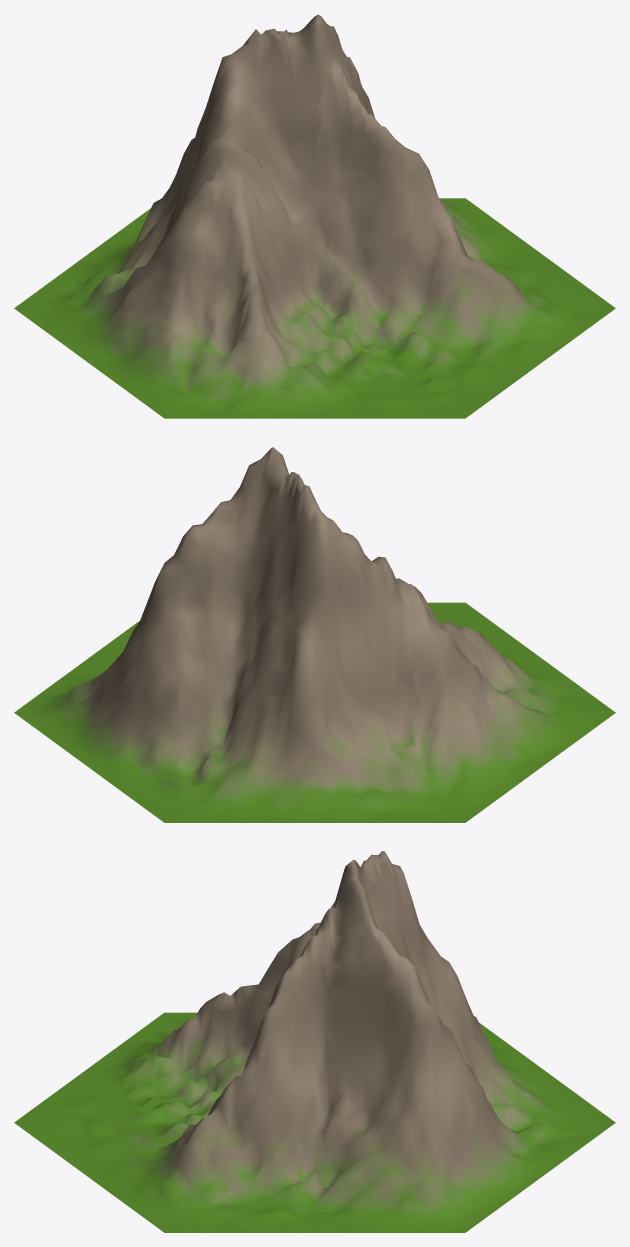
File: SM_Terreno_Montana_LOD1.fbx
The picture shows the model from 3 angles, top to bottom: view 1: azimuth 30°, elevation 25°; view 2: azimuth 150°, elevation 25°; view 3: azimuth 270°, elevation 25°; orthographic projection.
Visible parts, largest first — view 1: SM_Terreno_Montana_LOD1; view 2: SM_Terreno_Montana_LOD1; view 3: SM_Terreno_Montana_LOD1.
Part boxes in pixels (<box>): SM_Terreno_Montana_LOD1: <box>14,14,615,418</box>; SM_Terreno_Montana_LOD1: <box>14,447,615,822</box>; SM_Terreno_Montana_LOD1: <box>14,851,615,1232</box>.
Size of the model in its own units: 173 by 101 by 200.
